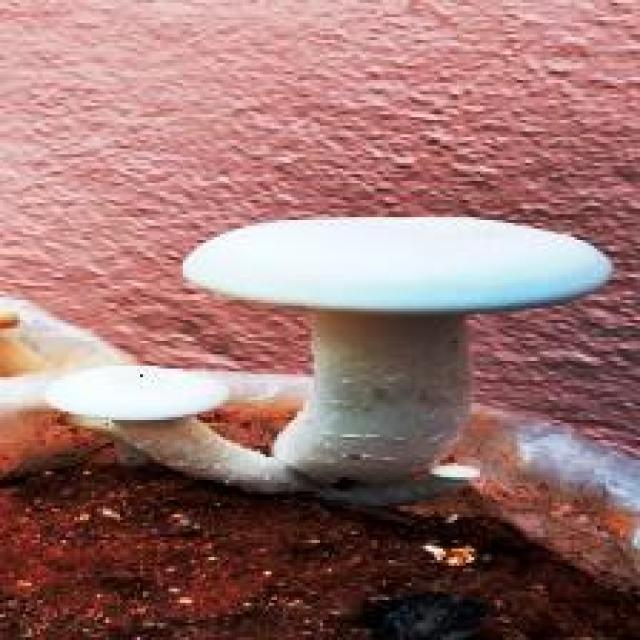field-mushroom: (46, 208, 617, 506)
